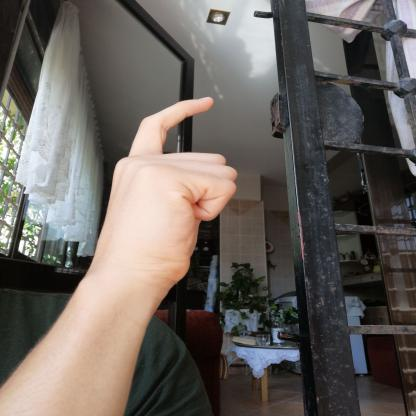RAA: (81, 81, 246, 300)
